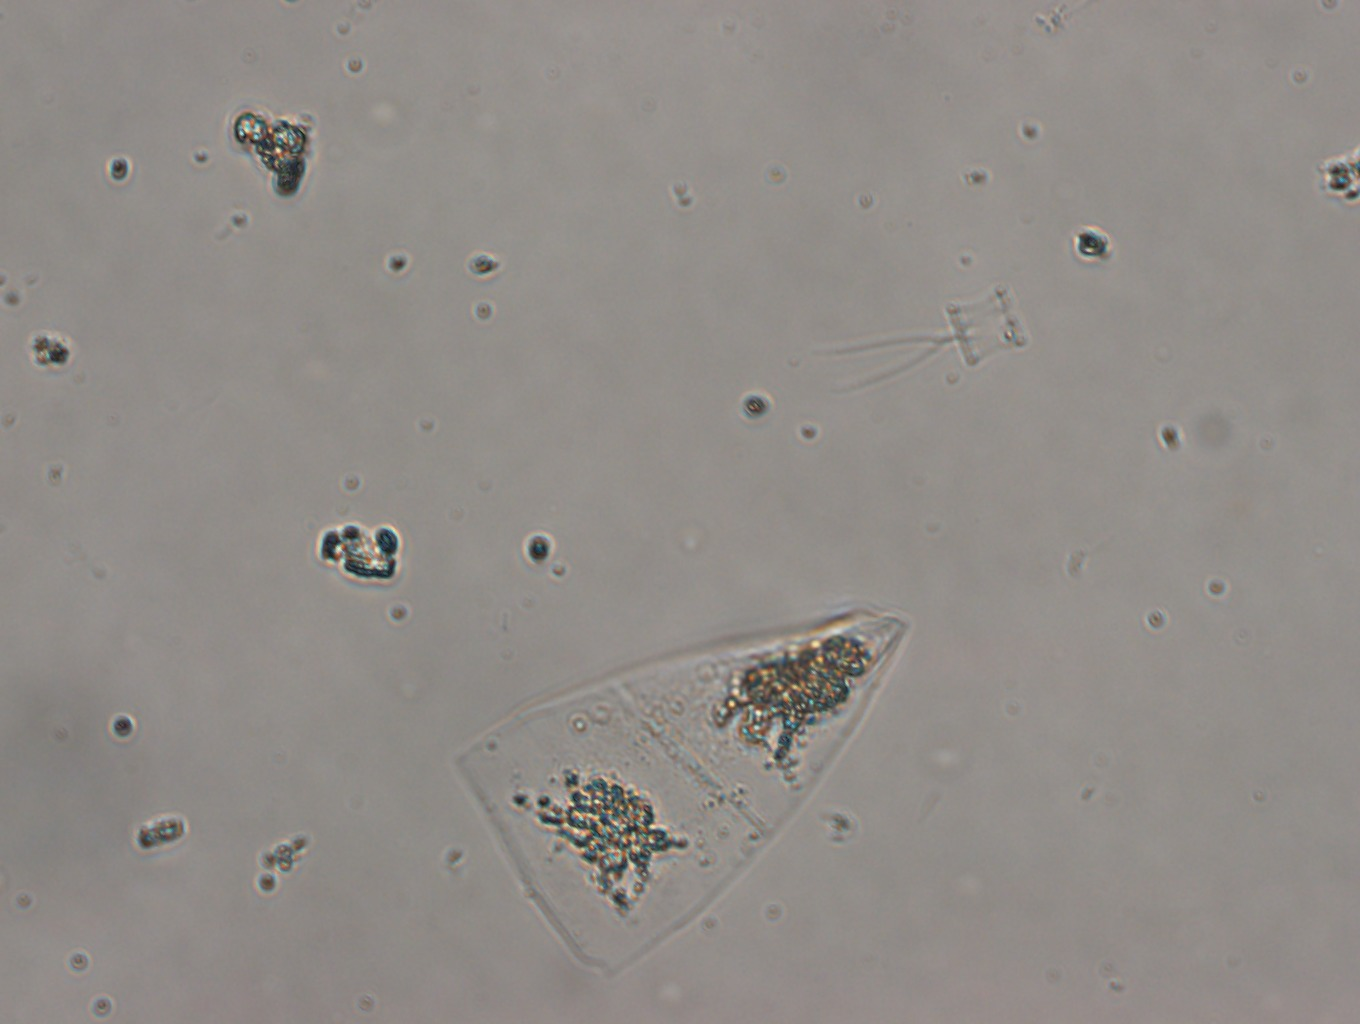chaetoceros: (807, 288, 1029, 392)
helicotheca: (452, 601, 908, 972)
